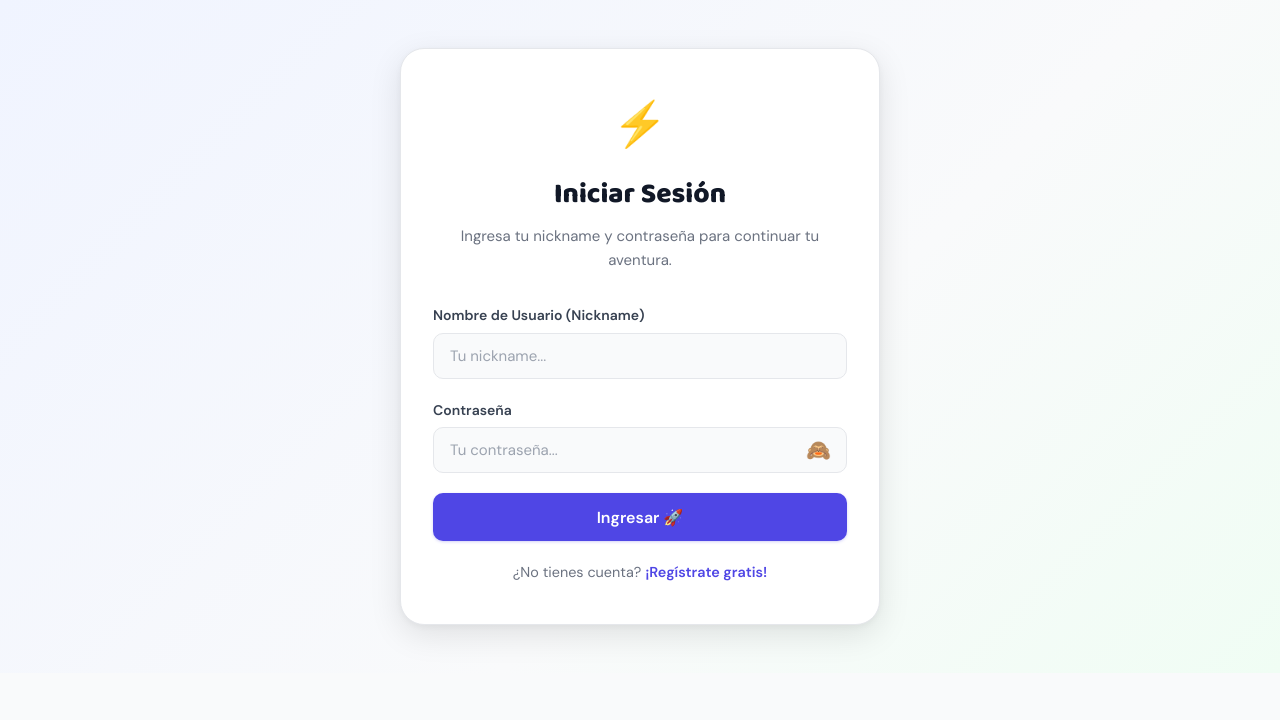
it: Login Page › handles login failure
Type "wrong" into the field labelled "Nombre de Usuario (Nickname)". click: (640, 356)
box: [433,333,847,379]
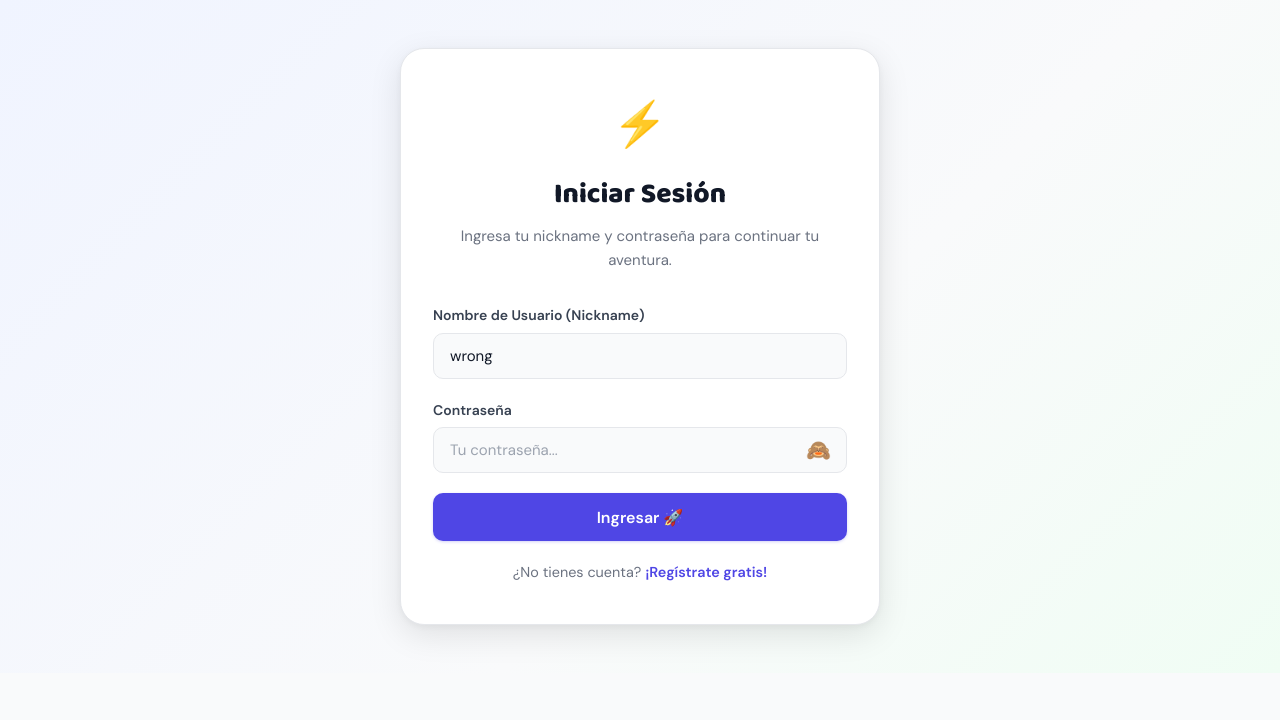
Type "wrong" into the password field labelled "Contraseña". click: (640, 450)
box: [433,427,847,473]
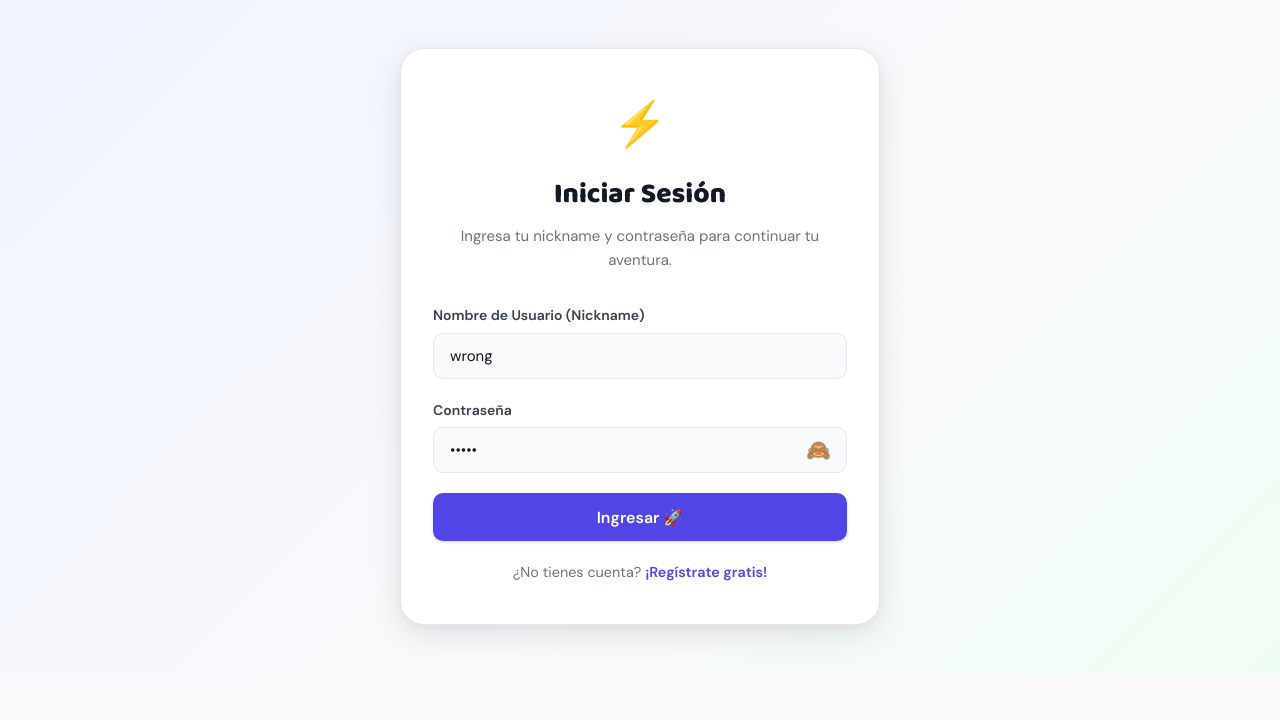
Click the button "Ingresar 🚀". click: (640, 517)
box: [433,493,847,541]
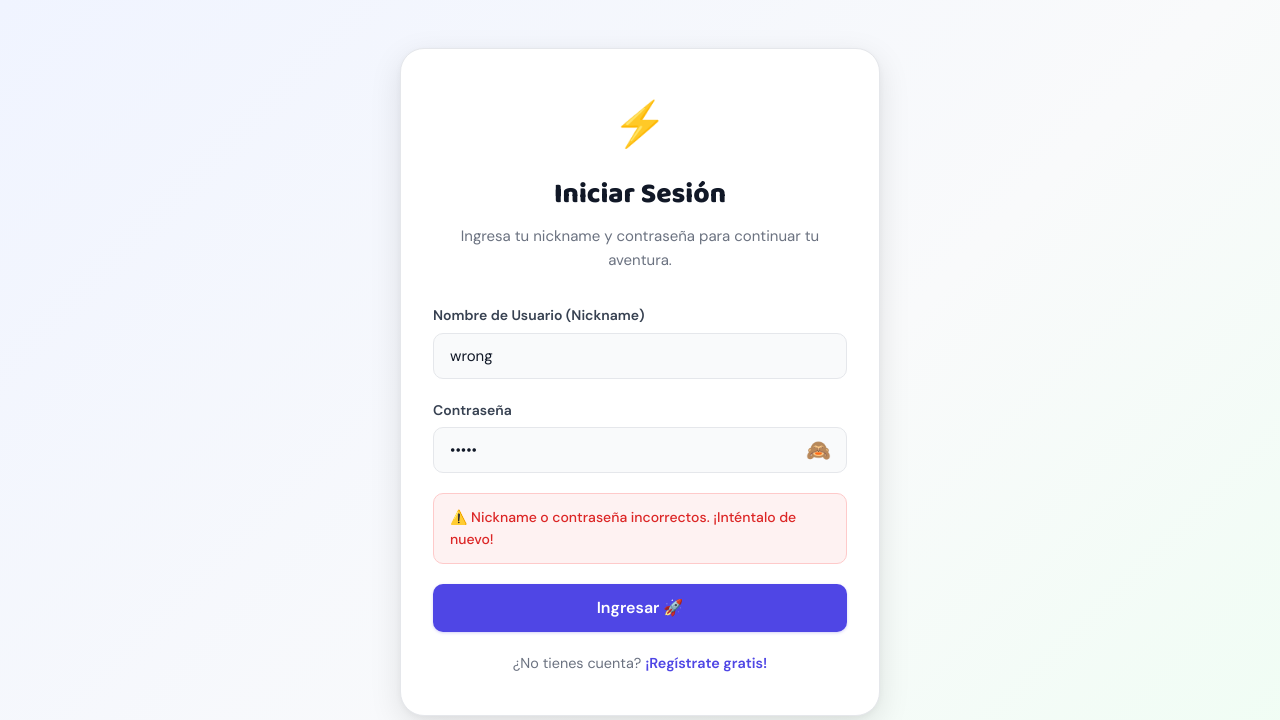
Check: the text "⚠️ Nickname o contraseña incorrectos. ¡Inténtalo de nuevo!" is shown, box [433,493,847,564]
